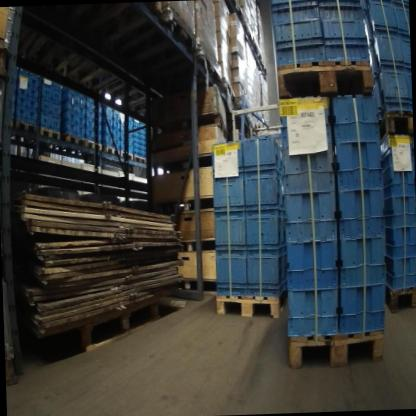pallet: (81, 294, 161, 348), (277, 58, 375, 101), (287, 331, 387, 368), (156, 112, 229, 146), (216, 289, 287, 321), (150, 152, 214, 177), (162, 8, 195, 50), (154, 194, 215, 216), (385, 281, 416, 315), (379, 113, 414, 142), (195, 46, 221, 83), (182, 275, 218, 296), (178, 237, 216, 254), (0, 32, 10, 79), (219, 78, 235, 103), (39, 125, 61, 141), (15, 118, 37, 133), (64, 133, 86, 147), (241, 16, 253, 39), (102, 145, 121, 158), (85, 138, 102, 152), (250, 36, 260, 56), (258, 51, 267, 73), (119, 149, 134, 162), (148, 2, 163, 15), (134, 154, 147, 166)
small_load_carrier: (284, 188, 337, 245), (285, 238, 340, 291), (279, 95, 332, 149), (286, 288, 339, 338), (282, 142, 334, 192), (339, 283, 387, 334), (333, 94, 380, 145), (338, 186, 384, 238), (339, 237, 386, 287), (335, 140, 382, 188), (272, 20, 324, 61), (323, 20, 369, 63), (246, 251, 283, 297), (245, 209, 283, 251), (215, 250, 248, 297), (382, 148, 415, 195), (244, 170, 280, 211), (212, 169, 246, 212), (244, 130, 279, 171), (379, 69, 412, 112), (214, 210, 246, 252), (269, 0, 320, 25), (371, 33, 404, 71), (210, 137, 244, 171), (384, 194, 416, 228), (385, 257, 416, 292), (386, 224, 416, 259), (319, 0, 362, 23), (368, 3, 399, 34), (393, 4, 410, 37), (400, 33, 411, 71), (406, 71, 413, 112), (40, 111, 52, 127), (61, 90, 77, 102), (366, 0, 392, 7), (62, 110, 77, 122), (51, 86, 62, 102), (61, 101, 77, 112), (40, 97, 52, 111), (16, 93, 28, 107), (62, 122, 76, 134), (50, 115, 61, 130), (51, 101, 62, 116), (16, 103, 27, 118), (75, 123, 86, 138), (391, 0, 409, 9), (41, 85, 52, 99), (27, 85, 39, 97), (26, 107, 38, 119), (17, 81, 28, 94), (28, 74, 39, 86), (18, 70, 29, 82), (102, 106, 113, 118), (27, 97, 38, 108), (102, 117, 113, 128), (85, 128, 95, 140), (86, 116, 95, 129), (76, 112, 86, 123), (103, 136, 113, 147), (77, 93, 86, 104), (86, 106, 95, 117), (102, 127, 113, 136), (86, 97, 95, 108), (113, 138, 121, 150), (77, 104, 86, 114), (112, 129, 121, 139), (112, 110, 120, 120), (113, 119, 120, 129), (120, 138, 125, 148), (120, 131, 125, 139), (120, 124, 125, 132)
